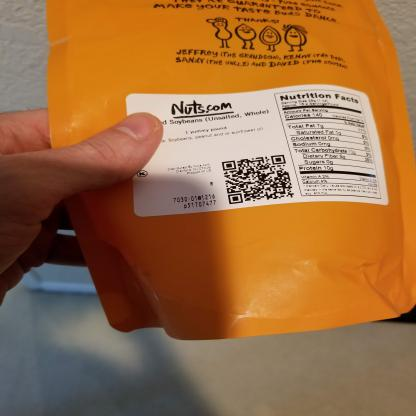qr: (221, 153, 297, 206)
